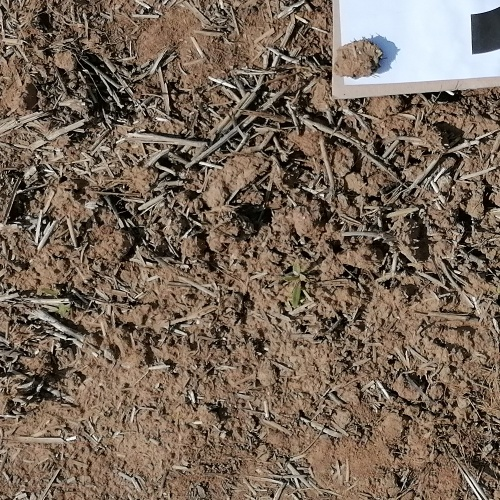beet: (281, 261, 311, 309)
